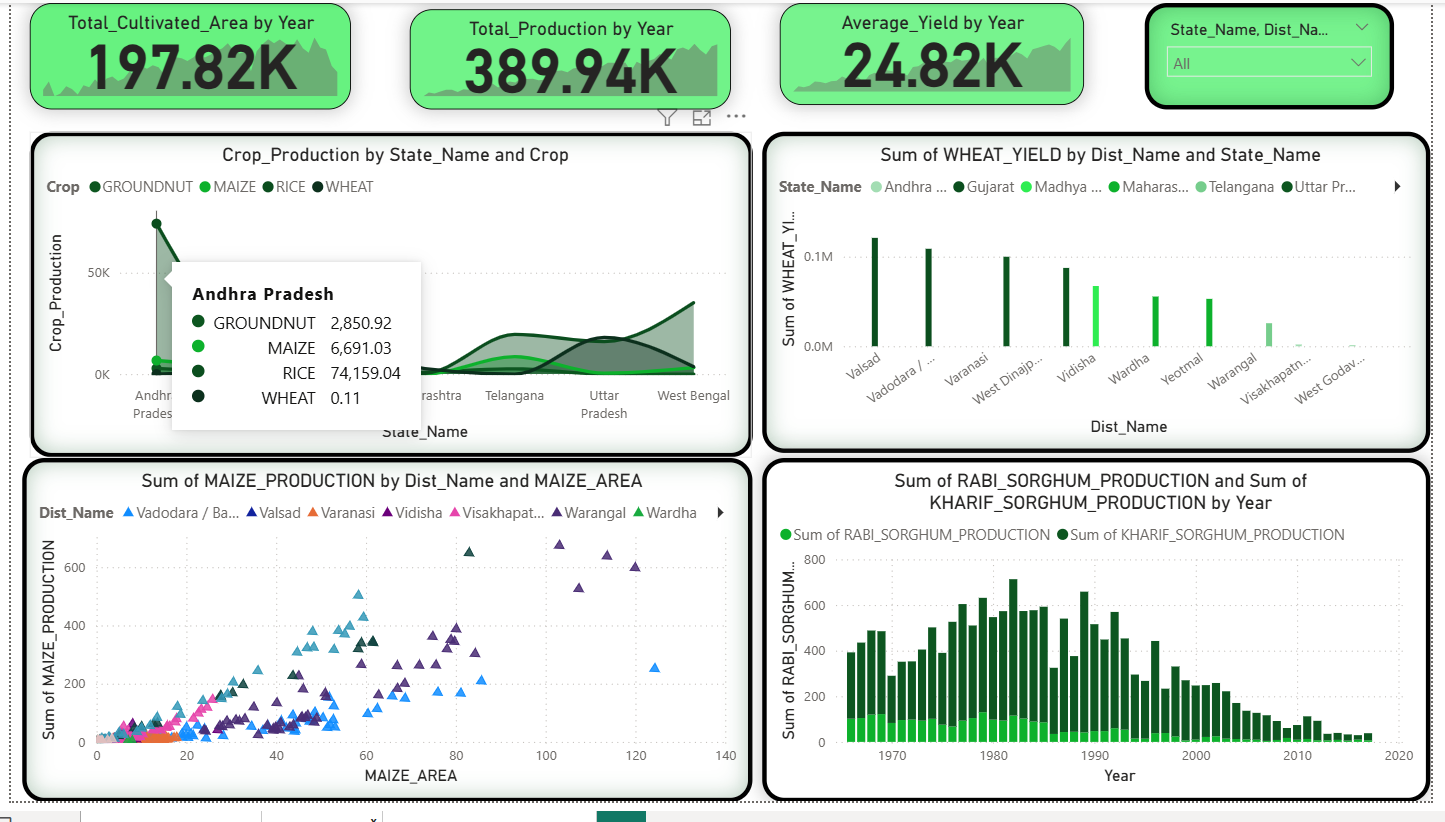

The page's visual inventory and layout, read from the dashboard file:
{"tool":"powerbi","page":{"name":"Crop Yield","canvas":[1280,720],"ordinal":1},"visuals":[{"type":"clusteredColumnChart","fields":{"Category":["agri_data.Dist_Name"],"Y":["Sum(agri_data.WHEAT_YIELD)"],"Series":["agri_data.State_Name"]},"box":[677.9,116.6,602.4,289.5],"z":0},{"type":"slicer","fields":{"Values":["agri_data.State_Name","agri_data.Dist_Name"]},"box":[1022.3,0,225,96.1],"z":1000},{"type":"scatterChart","fields":{"Y":["Sum(agri_data.MAIZE_PRODUCTION)"],"X":["agri_data.MAIZE_AREA"],"Series":["agri_data.Dist_Name"]},"box":[9.6,410.3,658.7,310.1],"z":2000},{"type":"columnChart","fields":{"Category":["agri_data.Year"],"Y":["Sum(agri_data.RABI_SORGHUM_PRODUCTION)","Sum(agri_data.KHARIF_SORGHUM_PRODUCTION)"]},"box":[677.9,410.3,602.4,310.1],"z":3000},{"type":"lineChart","fields":{"Category":["agri_data.State_Name"],"Y":["CropTable.Crop_Production"],"Series":["CropTable.Crop"]},"box":[16.5,116.6,651.8,293.7],"z":4000},{"type":"kpi","fields":{"TrendLine":["agri_data.Year"],"Indicator":["agri_data.Total_Cultivated_Area"]},"box":[16.5,0,289.5,96.1],"z":5000},{"type":"kpi","fields":{"Indicator":["agri_data.Total_Production"],"TrendLine":["agri_data.Year"]},"box":[359.5,5.5,289.5,90.6],"z":6000},{"type":"kpi","fields":{"TrendLine":["agri_data.Year"],"Indicator":["agri_data.Average_Yield"]},"box":[693,0,274.4,91.9],"z":7000}]}

Visuals, with their boxes in screenshot pixels (x1, y1, x2, y2), scaled from the page's 1280x720 canvas onto the 1445x822 screenshot:
clusteredColumnChart - agri_data.Dist_Name x Sum(agri_data.WHEAT_YIELD): l=765, t=133, r=1444, b=464
slicer - agri_data.State_Name x agri_data.Dist_Name: l=1154, t=0, r=1408, b=110
scatterChart - Sum(agri_data.MAIZE_PRODUCTION) x agri_data.MAIZE_AREA: l=11, t=468, r=754, b=821
columnChart - agri_data.Year x Sum(agri_data.RABI_SORGHUM_PRODUCTION): l=765, t=468, r=1444, b=821
lineChart - agri_data.State_Name x CropTable.Crop_Production: l=19, t=133, r=754, b=468
kpi - agri_data.Year x agri_data.Total_Cultivated_Area: l=19, t=0, r=345, b=110
kpi - agri_data.Total_Production x agri_data.Year: l=406, t=6, r=733, b=110
kpi - agri_data.Year x agri_data.Average_Yield: l=782, t=0, r=1092, b=105
